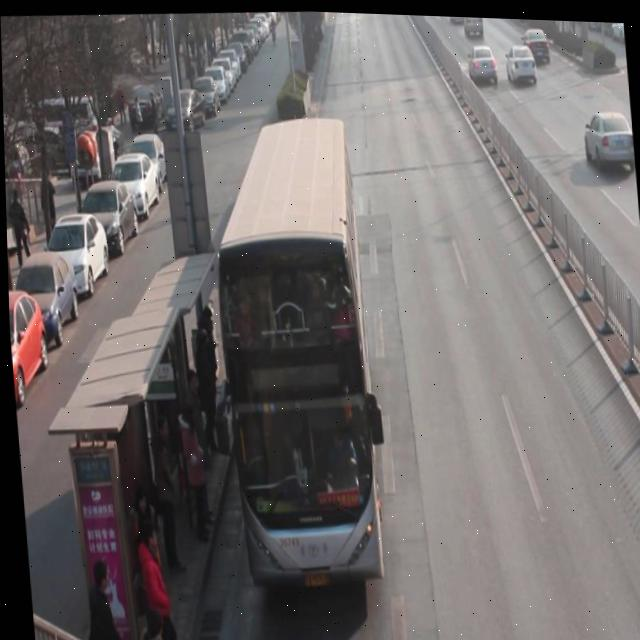car: (581, 99, 634, 168), (465, 34, 500, 82), (503, 32, 538, 79), (519, 15, 550, 55)
truck: (461, 13, 484, 29)
van: (199, 107, 377, 577)
